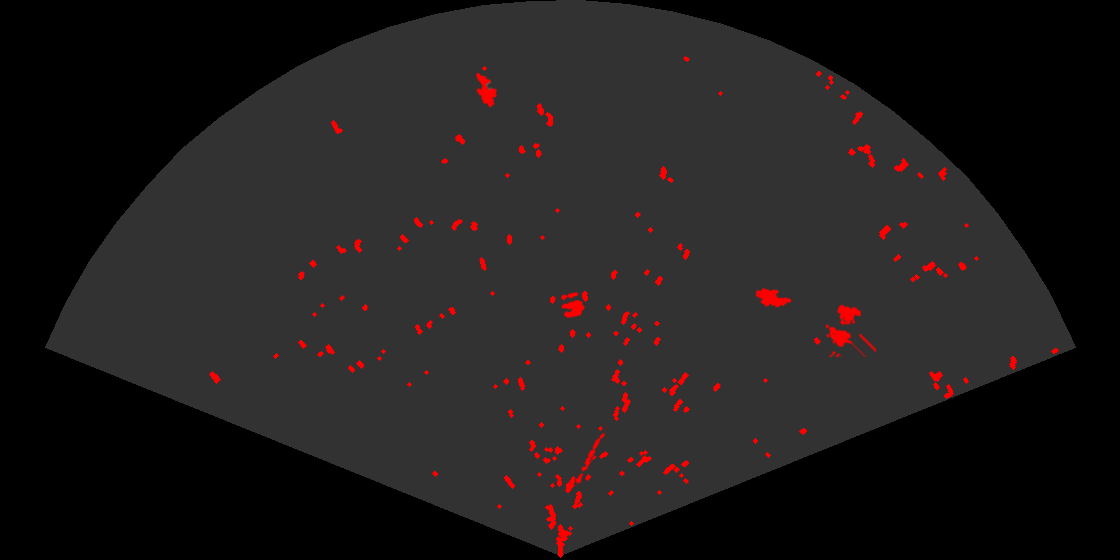AUV: (474, 71, 499, 109), (754, 286, 794, 309)
ball: (559, 291, 586, 320)
cage: (824, 303, 876, 357)
chain: (573, 425, 608, 486)
